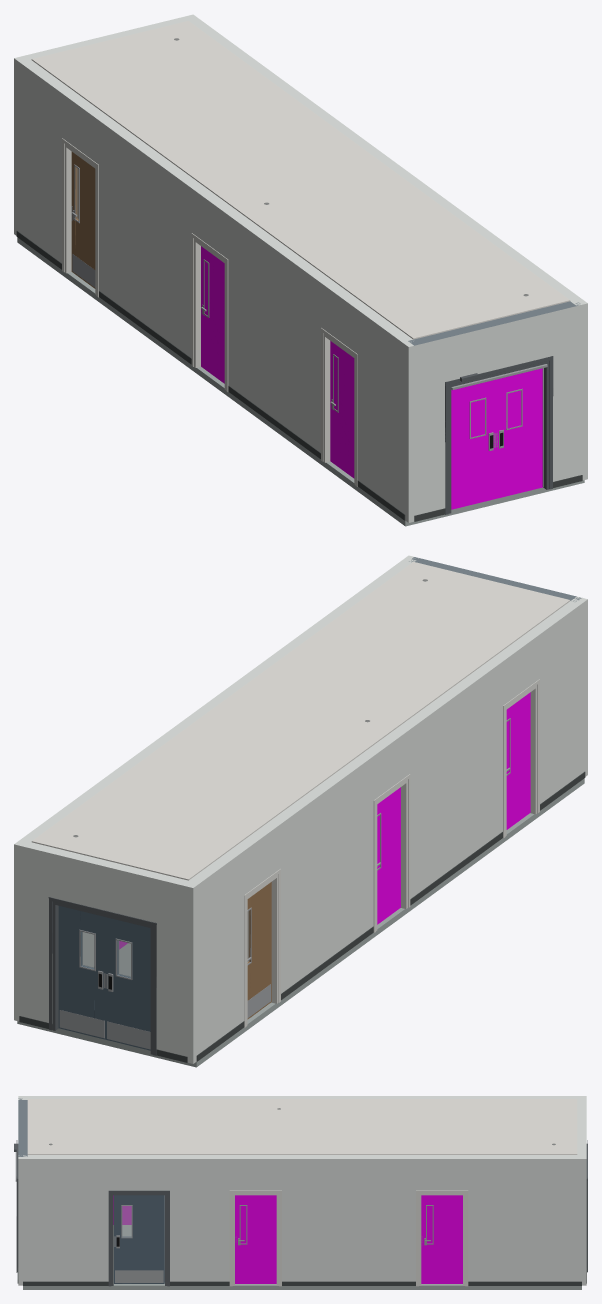
Rendered from ENV_ResearchCorridor_12m.glb.
3 views of the same model, one above another, from view 1: azimuth 30°, elevation 25°; view 2: azimuth 150°, elevation 25°; view 3: azimuth 270°, elevation 25° (orthographic). The views are drawn at different scales.
Parts seen in each view (by area): view 1: ENV_ResearchCorridor_12m_Architecture, ENV_ResearchCorridor_12m_Ceiling, ENV_ResearchCorridor_12m_CrossWalls, DOOR_Secure_Double_1800_Leaf_R_COL-colonly.001, DOOR_Secure_Double_1800_Leaf_L_COL-colonly.001, DOOR_Secure_Double_1800_Frame.001, DOOR_Interior_Single_1000_Leaf, DOOR_Interior_Single_1000_Leaf_COL-colonly.002, DOOR_Interior_Single_1000_Leaf_COL-colonly.001, DOOR_Interior_Single_1000_Frame.001, DOOR_Interior_Single_1000_Frame, DOOR_Interior_Single_1000_Frame.002; view 2: ENV_ResearchCorridor_12m_Architecture, ENV_ResearchCorridor_12m_Ceiling, ENV_ResearchCorridor_12m_CrossWalls, DOOR_Secure_Double_1800_Leaf_R, DOOR_Secure_Double_1800_Leaf_L, DOOR_Interior_Single_1000_Leaf, DOOR_Interior_Single_1000_Leaf_COL-colonly.002, DOOR_Secure_Double_1800_Frame, DOOR_Interior_Single_1000_Leaf_COL-colonly.001, DOOR_Interior_Single_1000_Frame.001, DOOR_Interior_Single_1000_Frame.002, DOOR_Interior_Single_1000_Frame; view 3: ENV_ResearchCorridor_12m_Architecture, ENV_ResearchCorridor_12m_Ceiling, DOOR_Secure_Single_1200_Leaf, DOOR_Interior_Single_1000_Leaf_COL-colonly.004, DOOR_Interior_Single_1000_Leaf_COL-colonly.003, ENV_ResearchCorridor_12m_CrossWalls, DOOR_Interior_Single_1000_Frame.003, DOOR_Interior_Single_1000_Frame.004, DOOR_Secure_Single_1200_Frame, DOOR_Secure_Double_1800_Frame.001.
Boxes of the visible parts, x1,y1,x2,y2 form: ENV_ResearchCorridor_12m_Architecture: [16, 17, 584, 526]; ENV_ResearchCorridor_12m_Ceiling: [31, 21, 570, 339]; ENV_ResearchCorridor_12m_CrossWalls: [14, 14, 587, 522]; DOOR_Secure_Double_1800_Leaf_R_COL-colonly.001: [496, 368, 542, 498]; DOOR_Secure_Double_1800_Leaf_L_COL-colonly.001: [451, 379, 495, 509]; DOOR_Secure_Double_1800_Frame.001: [445, 356, 553, 514]; DOOR_Interior_Single_1000_Leaf: [71, 151, 95, 288]; DOOR_Interior_Single_1000_Leaf_COL-colonly.002: [330, 341, 354, 478]; DOOR_Interior_Single_1000_Leaf_COL-colonly.001: [201, 246, 224, 383]; DOOR_Interior_Single_1000_Frame.001: [191, 233, 228, 391]; DOOR_Interior_Single_1000_Frame: [62, 138, 98, 297]; DOOR_Interior_Single_1000_Frame.002: [321, 328, 357, 486]; ENV_ResearchCorridor_12m_Architecture: [17, 558, 585, 1067]; ENV_ResearchCorridor_12m_Ceiling: [31, 562, 570, 880]; ENV_ResearchCorridor_12m_CrossWalls: [14, 555, 587, 1063]; DOOR_Secure_Double_1800_Leaf_R: [58, 906, 105, 1039]; DOOR_Secure_Double_1800_Leaf_L: [106, 917, 150, 1050]; DOOR_Interior_Single_1000_Leaf: [247, 882, 271, 1019]; DOOR_Interior_Single_1000_Leaf_COL-colonly.002: [506, 692, 530, 829]; DOOR_Secure_Double_1800_Frame: [48, 897, 156, 1055]; DOOR_Interior_Single_1000_Leaf_COL-colonly.001: [377, 787, 400, 924]; DOOR_Interior_Single_1000_Frame.001: [373, 774, 410, 932]; DOOR_Interior_Single_1000_Frame.002: [503, 679, 539, 838]; DOOR_Interior_Single_1000_Frame: [244, 869, 280, 1027]; ENV_ResearchCorridor_12m_Architecture: [23, 1096, 581, 1289]; ENV_ResearchCorridor_12m_Ceiling: [27, 1099, 577, 1154]; DOOR_Secure_Single_1200_Leaf: [114, 1195, 164, 1283]; DOOR_Interior_Single_1000_Leaf_COL-colonly.004: [235, 1195, 276, 1283]; DOOR_Interior_Single_1000_Leaf_COL-colonly.003: [421, 1195, 462, 1283]; ENV_ResearchCorridor_12m_CrossWalls: [17, 1096, 586, 1285]; DOOR_Interior_Single_1000_Frame.003: [416, 1190, 468, 1286]; DOOR_Interior_Single_1000_Frame.004: [229, 1190, 281, 1286]; DOOR_Secure_Single_1200_Frame: [108, 1190, 169, 1286]; DOOR_Secure_Double_1800_Frame.001: [14, 1140, 18, 1272].
Size of what is drawn, in the model's own units: 3.26 by 3.13 by 12.32.
